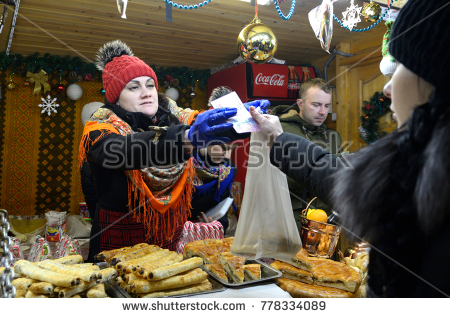banknotes: (209, 92, 262, 132)
